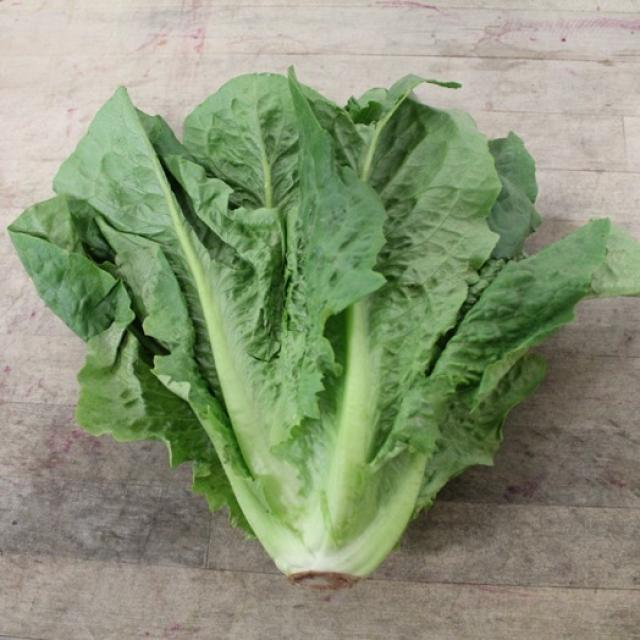Lettuce-Ready-to-Harvest: (9, 72, 640, 583)
